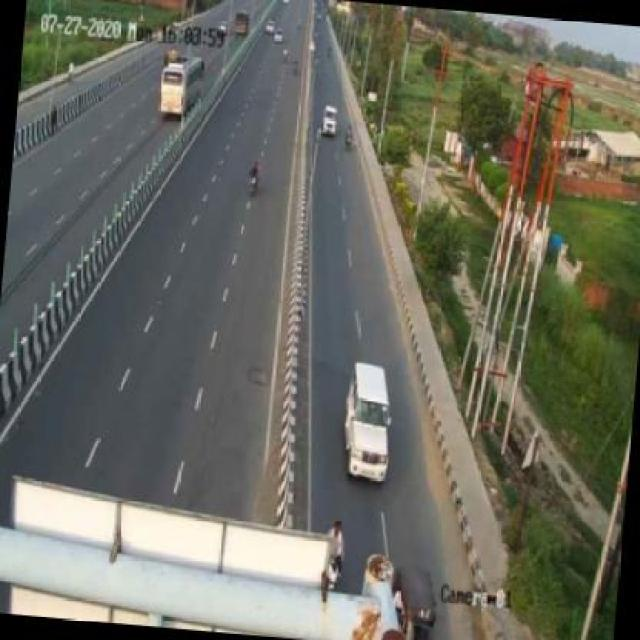car: (328, 351, 402, 492), (317, 102, 345, 142)
